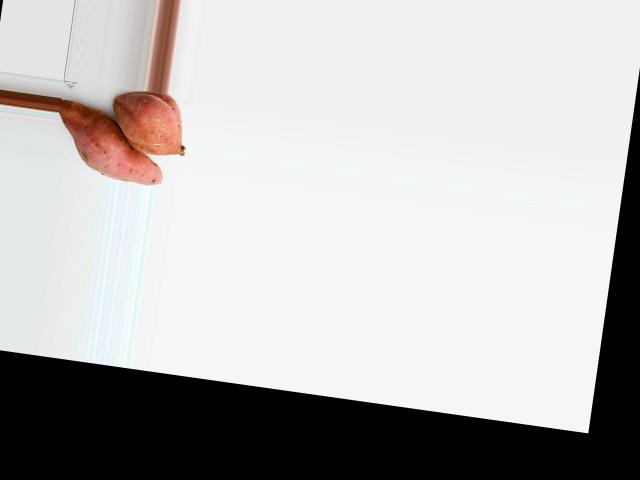sweet_potato: (112, 95, 192, 153)
